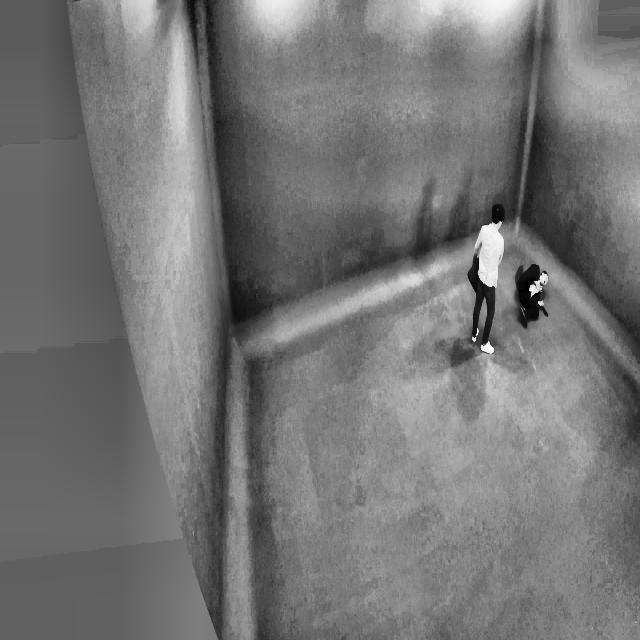assult: (455, 188, 551, 358)
